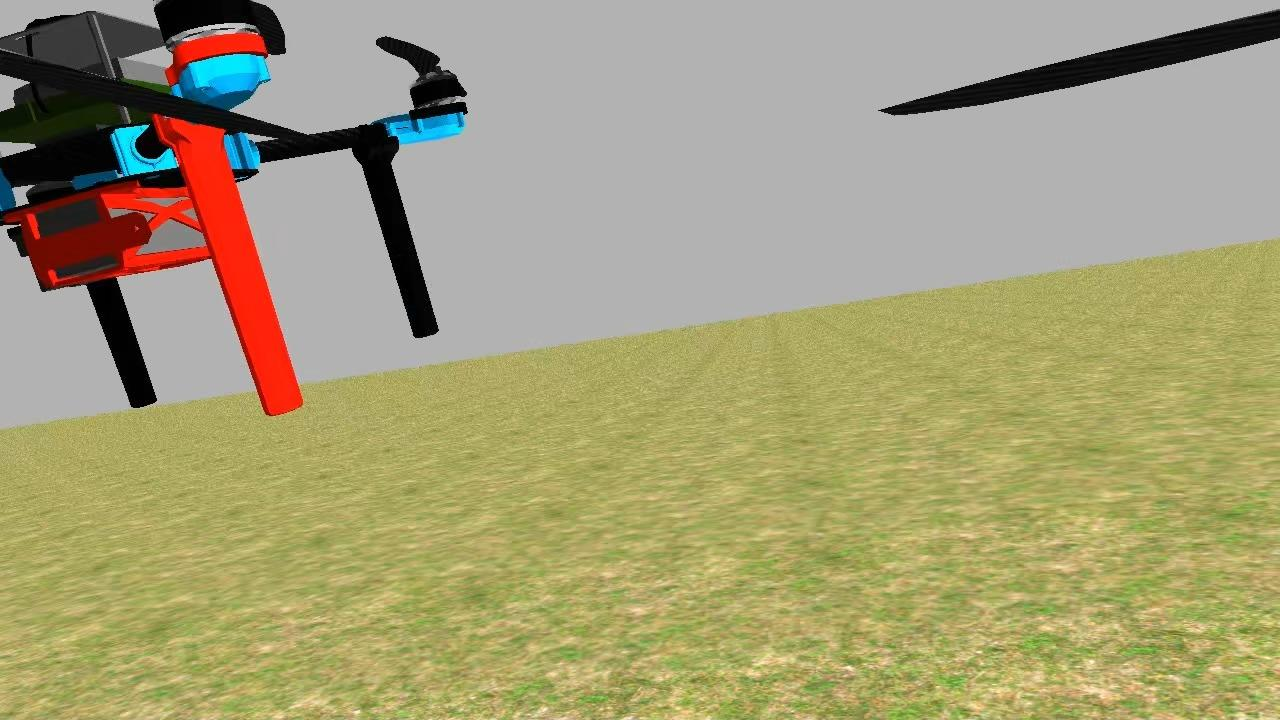UAV: (0, 0, 488, 452)
